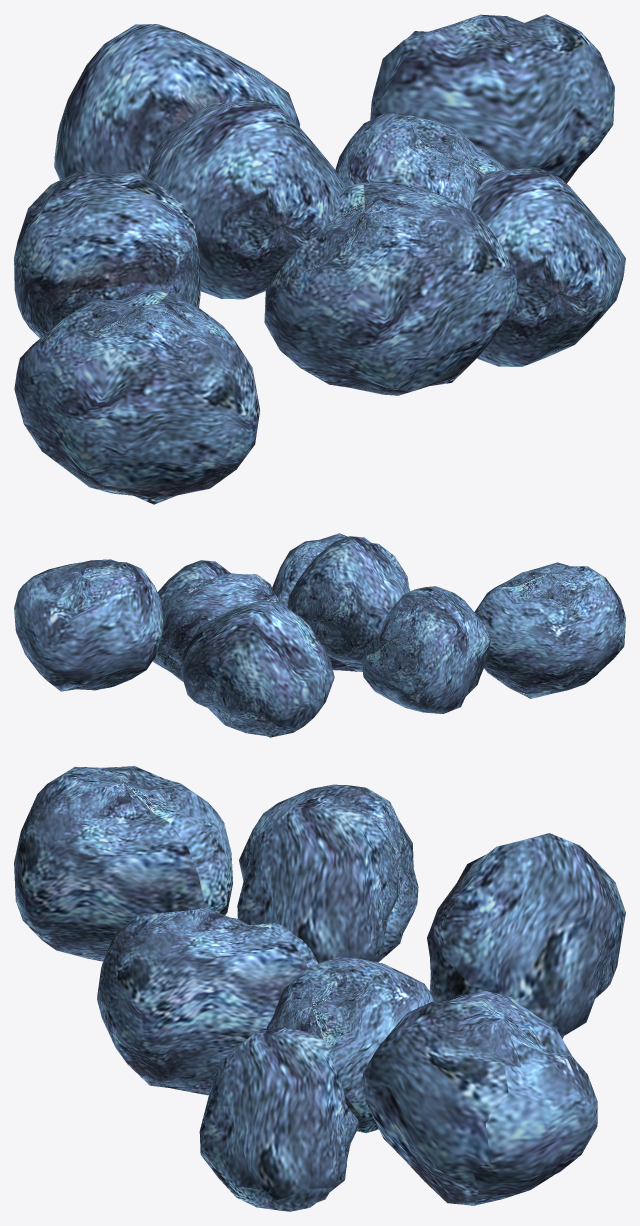
File: mengkuangshi_1.fbx
The picture shows the model from 3 angles, top to bottom: view 1: azimuth 30°, elevation 25°; view 2: azimuth 150°, elevation 25°; view 3: azimuth 270°, elevation 25°; orthographic projection. The views are drawn at different scales.
Parts seen in each view (by area): view 1: polySurface15; view 2: polySurface15; view 3: polySurface15.
Boxes of the visible parts, x1,y1,x2,y2 form: polySurface15: (14, 14, 625, 504); polySurface15: (14, 533, 625, 737); polySurface15: (14, 766, 625, 1211).
Bounding box in the file's own units: 142 × 55.11 × 106.
1 material, 1 textured.
